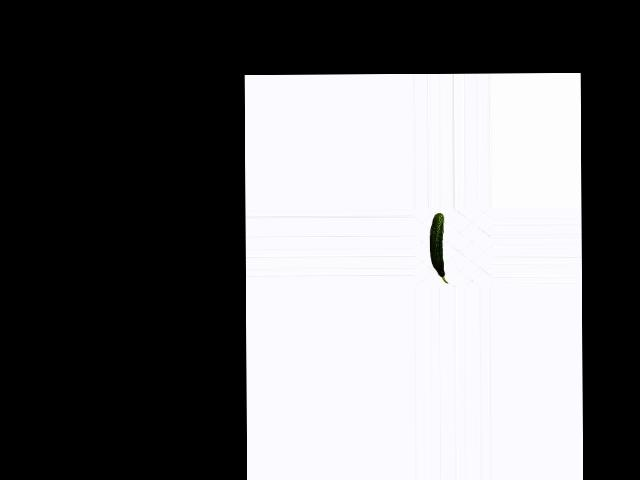cucumber: (429, 213, 447, 284)
